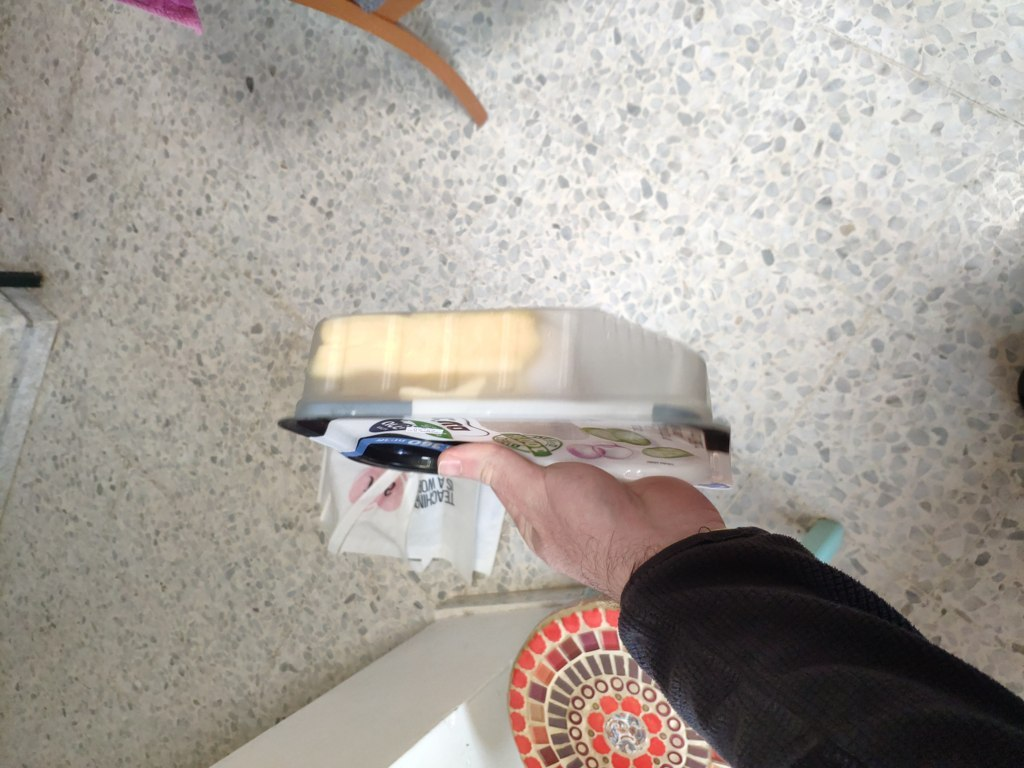Cheese: (285, 271, 754, 719)
